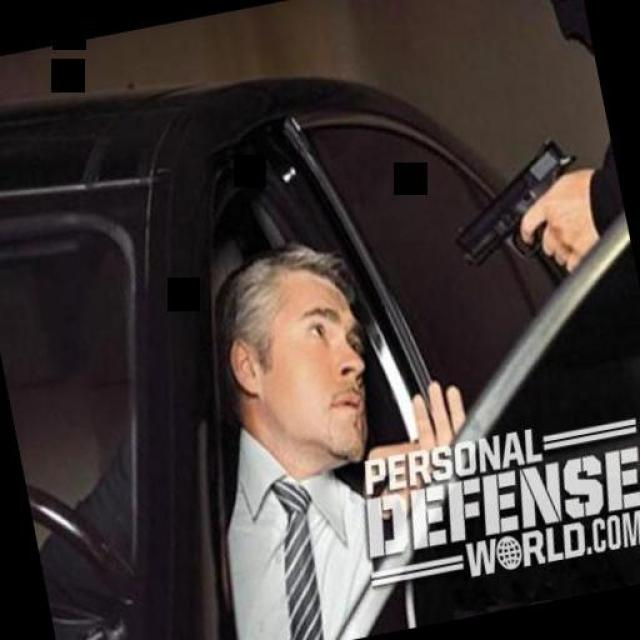gun: (436, 123, 604, 285)
